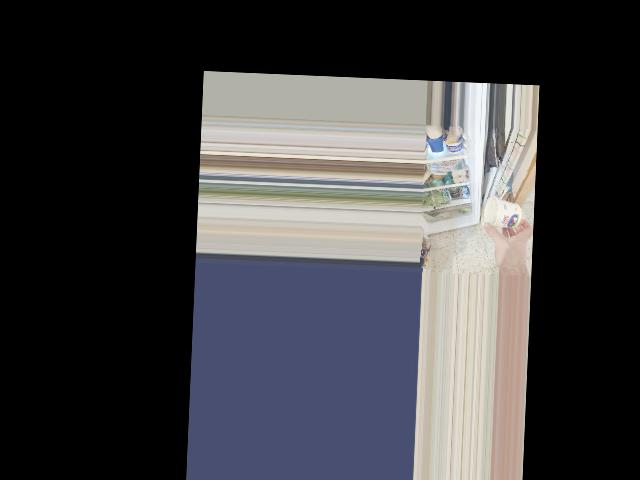cotage: (483, 195, 523, 233)
